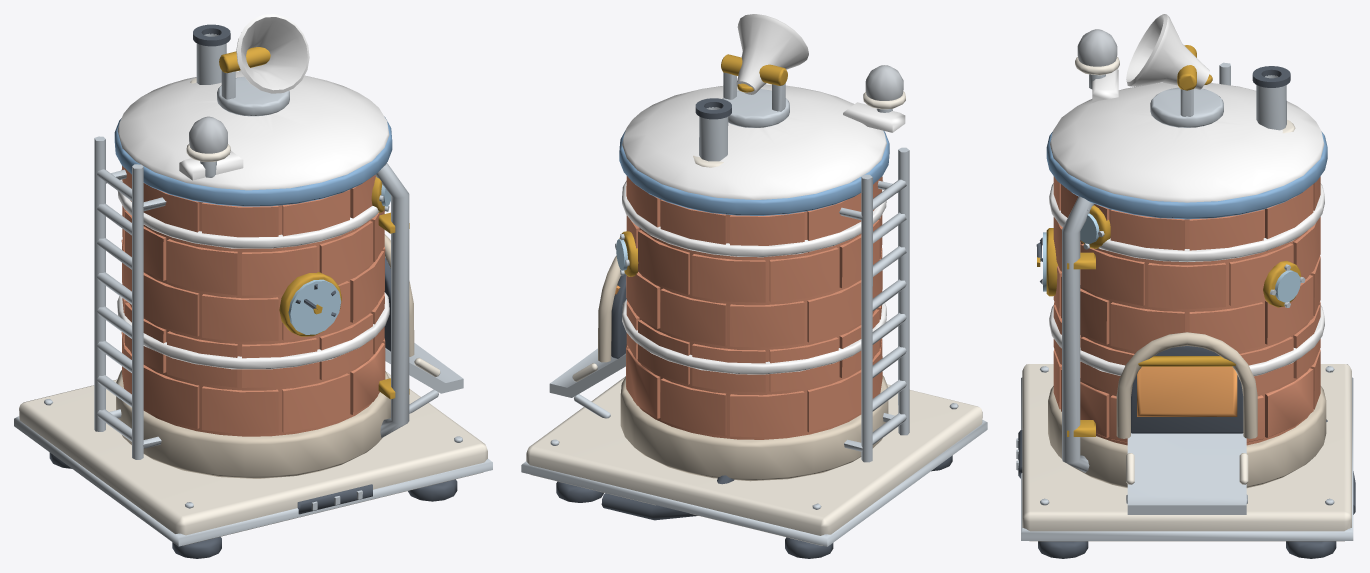
File: machine_dish.glb
The picture shows the model from 3 angles, left to right: view 1: azimuth 30°, elevation 25°; view 2: azimuth 150°, elevation 25°; view 3: azimuth 270°, elevation 25°; orthographic projection. The views are drawn at different scales.
Parts seen in each view (by area): view 1: machine_dish_structure, spin, lamp; view 2: machine_dish_structure, spin, lamp; view 3: machine_dish_structure, spin, lamp.
Part boxes in pixels (x1=…): machine_dish_structure: x1=14, y1=24, x2=492, y2=558; spin: x1=217, y1=14, x2=309, y2=116; lamp: x1=189, y1=116, x2=227, y2=153; machine_dish_structure: x1=521, y1=84, x2=987, y2=558; spin: x1=721, y1=14, x2=808, y2=127; lamp: x1=865, y1=65, x2=903, y2=100; machine_dish_structure: x1=1016, y1=57, x2=1355, y2=558; spin: x1=1126, y1=14, x2=1223, y2=127; lamp: x1=1077, y1=29, x2=1117, y2=66.
Bounding box in the file's own units: 2.99 × 3.97 × 2.57.
